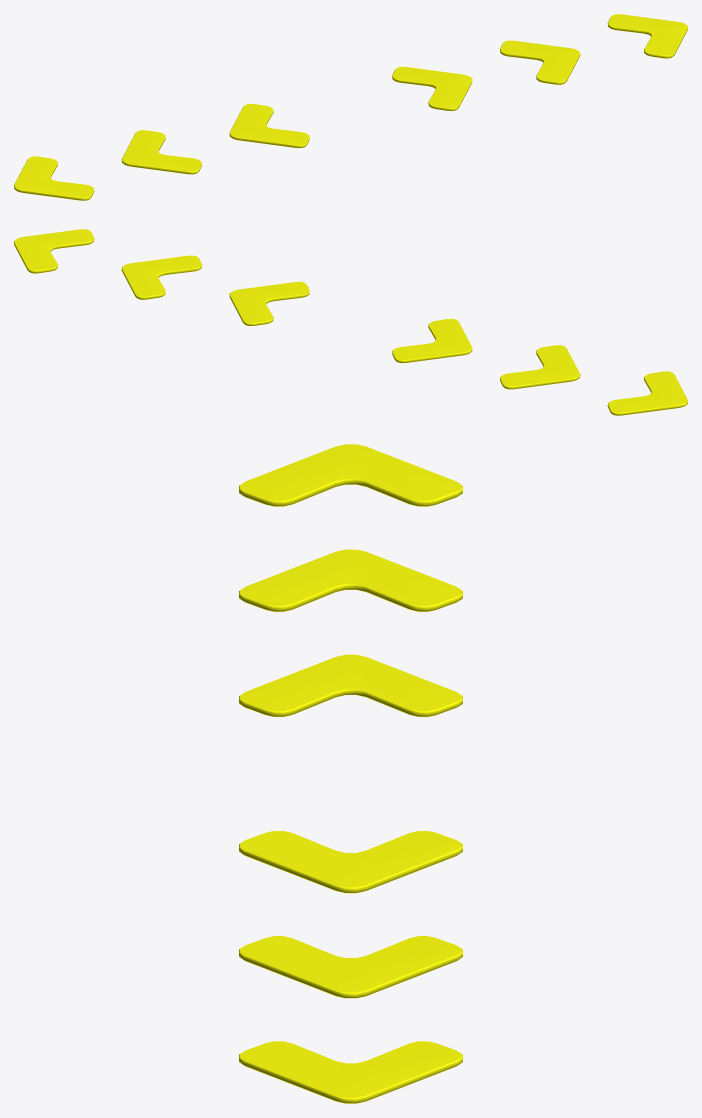
File: obstacle_2_001_arrows.fbx
3 renders of one model, top to bottom at view 1: azimuth 30°, elevation 25°; view 2: azimuth 150°, elevation 25°; view 3: azimuth 270°, elevation 25°, orthographic. The views are drawn at different scales.
Visible parts, largest first — view 1: obstacle_2_001_arrows; view 2: obstacle_2_001_arrows; view 3: obstacle_2_001_arrows.
Boxes of the visible parts, <box> form: obstacle_2_001_arrows: <box>14,14,687,200</box>; obstacle_2_001_arrows: <box>14,229,687,415</box>; obstacle_2_001_arrows: <box>239,444,462,1103</box>.
Bounding box in the file's own units: 1633 × 236 × 7.37.
